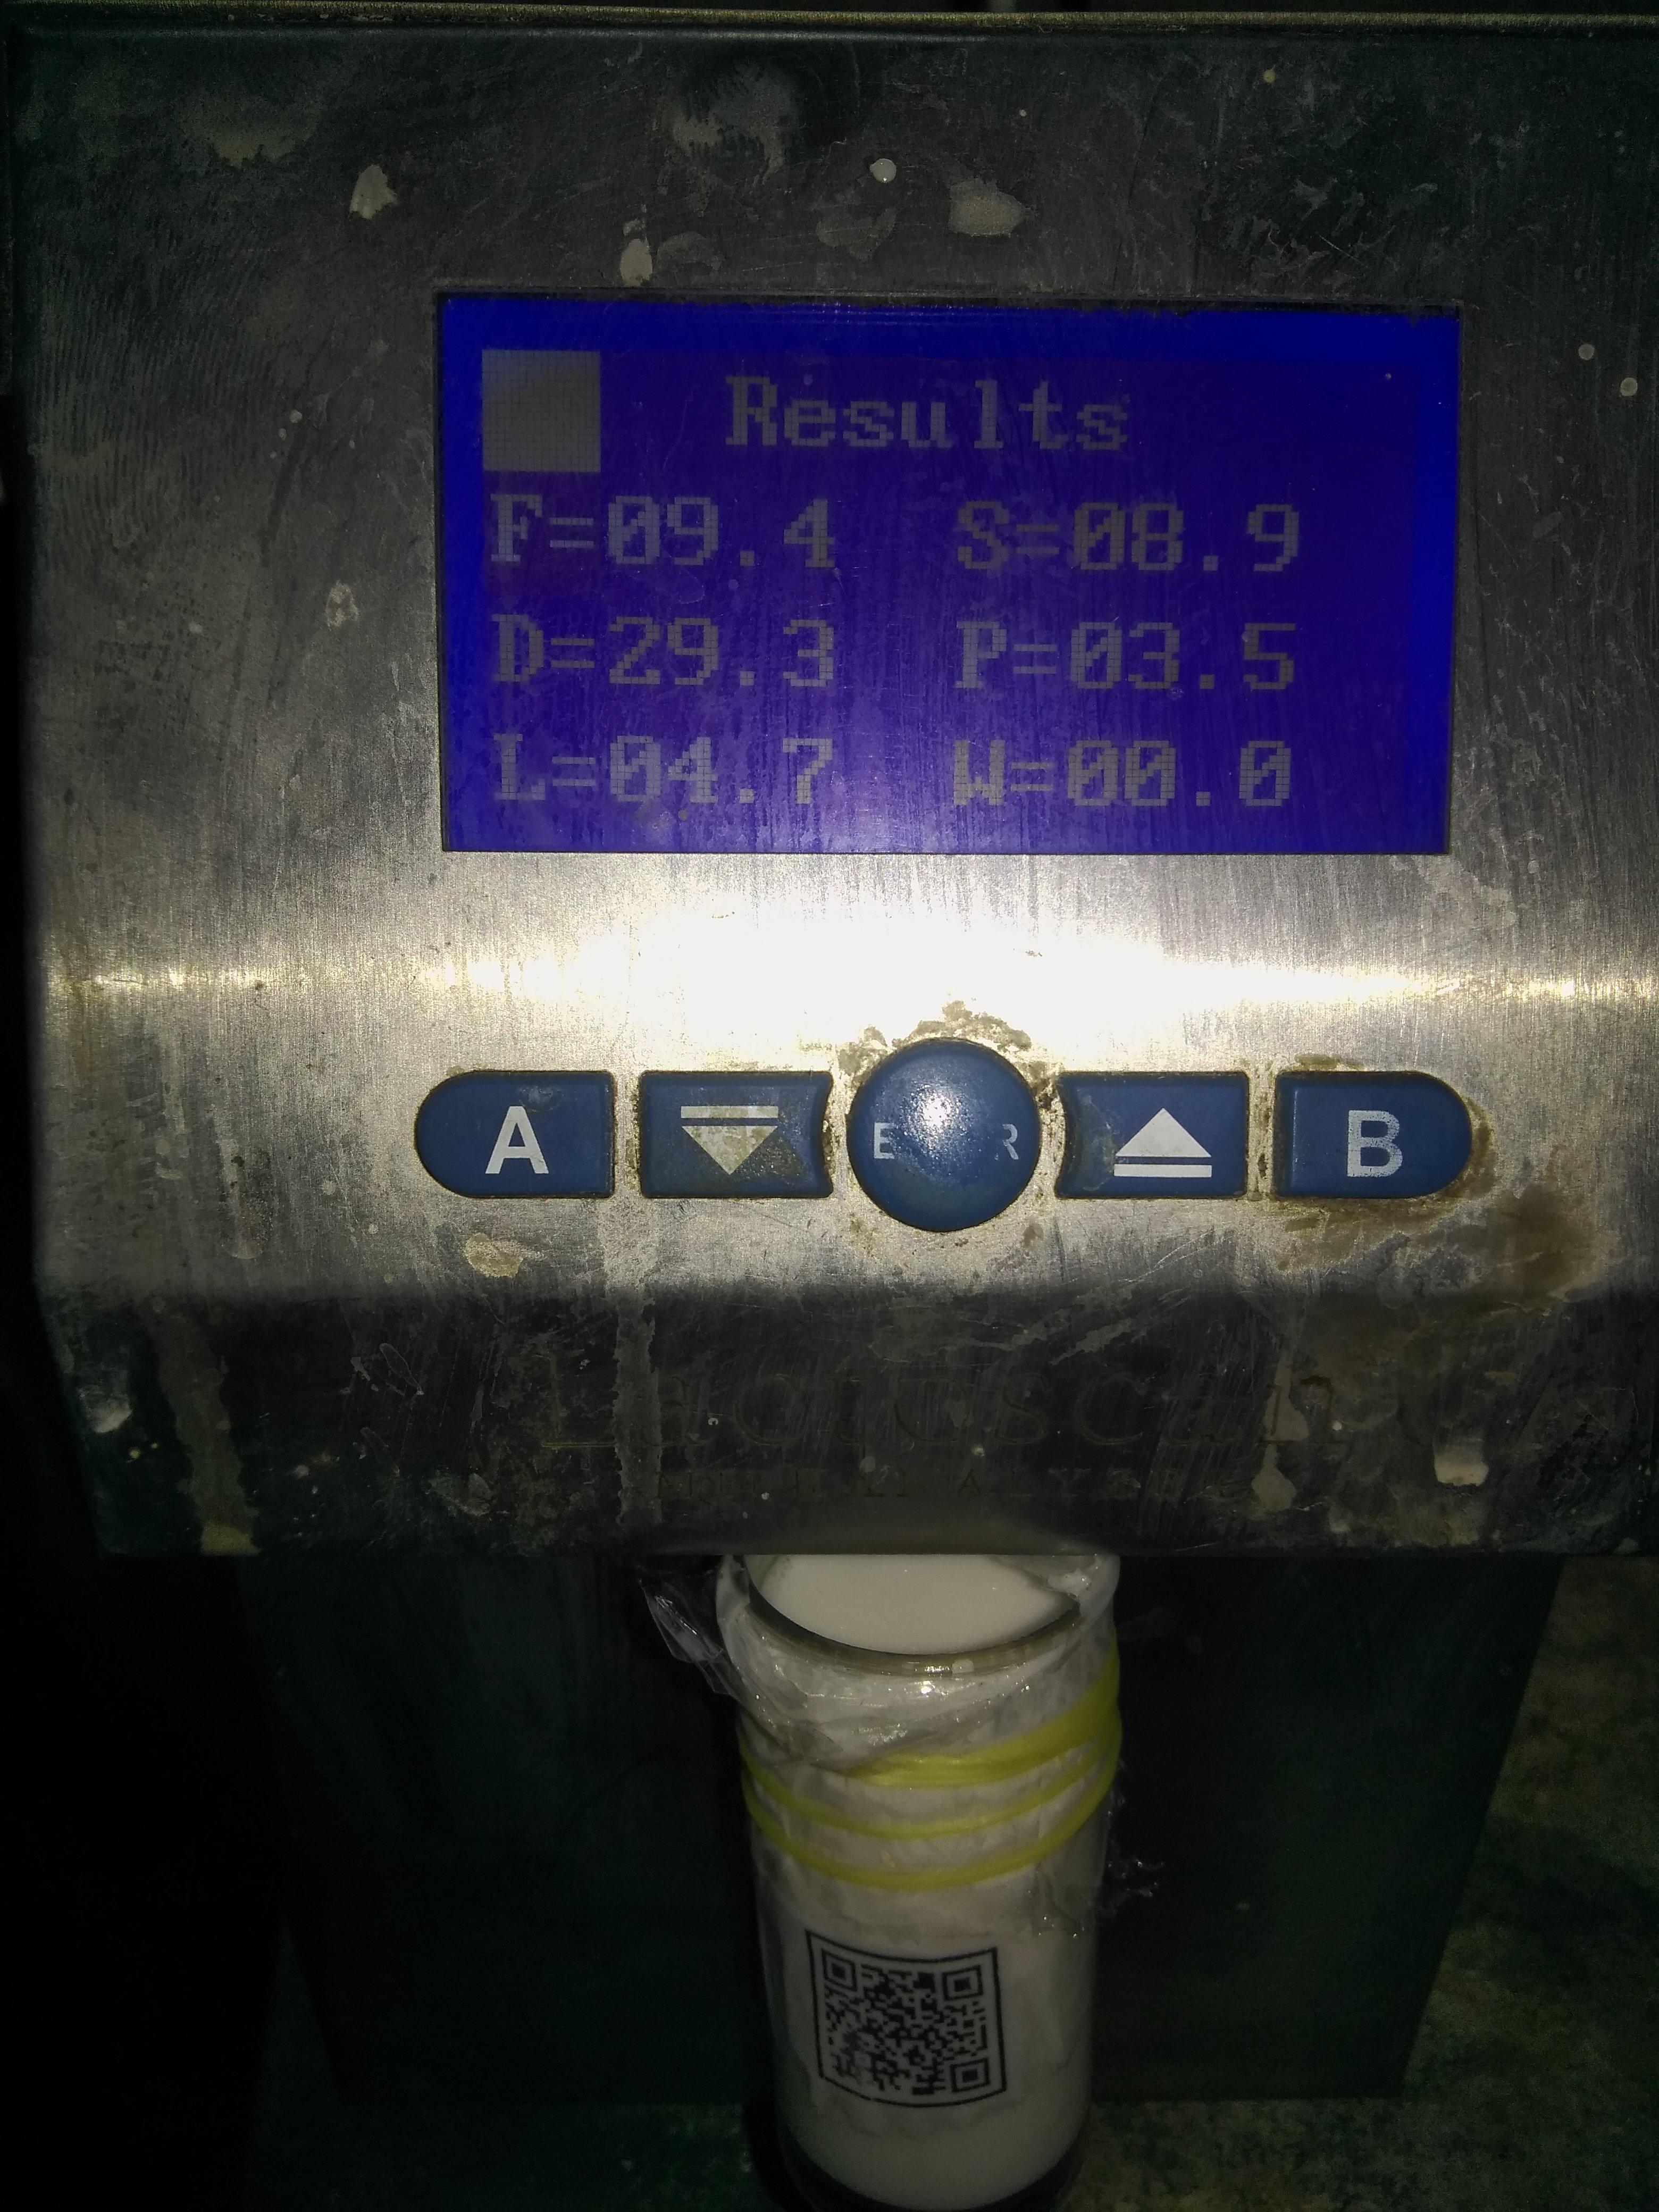lcd: (399, 240, 1486, 904)
qr: (800, 1935, 1023, 2127)
